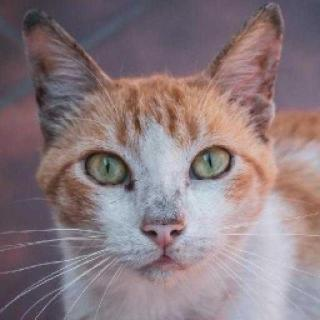cat: (18, 5, 282, 281)
nose: (130, 187, 198, 256)
